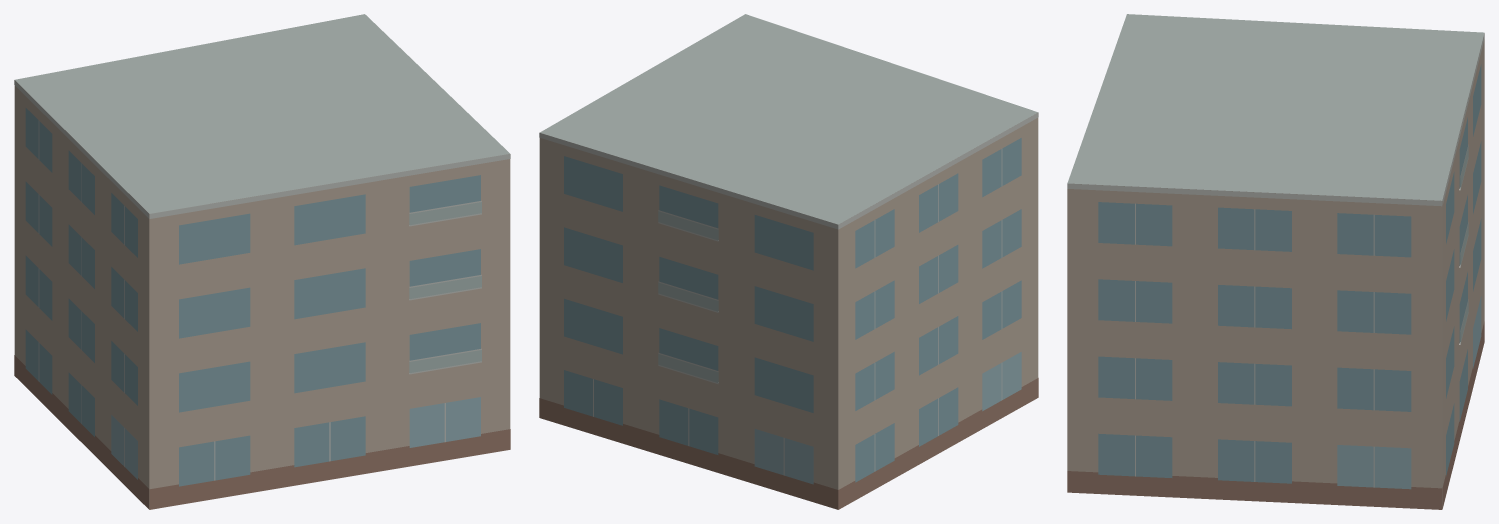
Rendered from survey-upis-32499249.glb.
3 renders of one model, left to right at view 1: azimuth 30°, elevation 25°; view 2: azimuth 150°, elevation 25°; view 3: azimuth 270°, elevation 25°, orthographic. The views are drawn at different scales.
Visible parts, largest first — view 1: survey-upis-32499249.tmp; view 2: survey-upis-32499249.tmp; view 3: survey-upis-32499249.tmp.
Part boxes in pixels (x1=…): survey-upis-32499249.tmp: x1=14, y1=14, x2=510, y2=509; survey-upis-32499249.tmp: x1=539, y1=14, x2=1038, y2=509; survey-upis-32499249.tmp: x1=1067, y1=14, x2=1484, y2=509.
Bounding box in the file's own units: 18.16 × 14 × 17.14.
